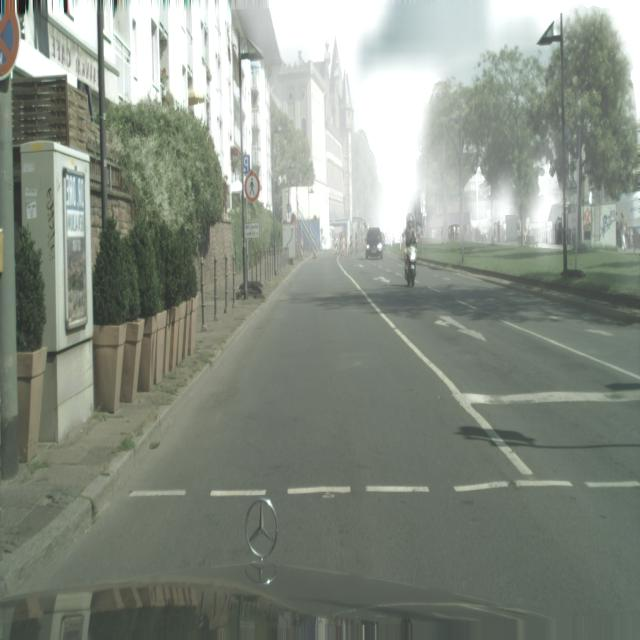bus: (403, 212, 417, 287)
truck: (365, 227, 384, 260)
